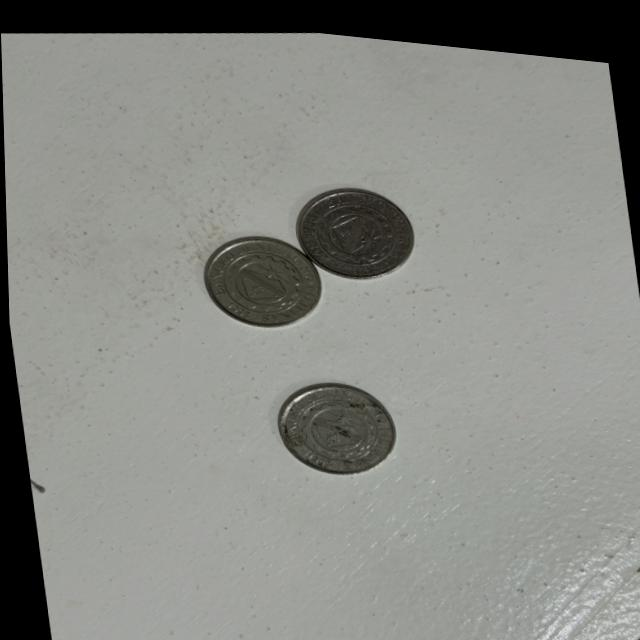1_Old_Back: (301, 184, 404, 269), (285, 380, 383, 461), (214, 233, 307, 317)
